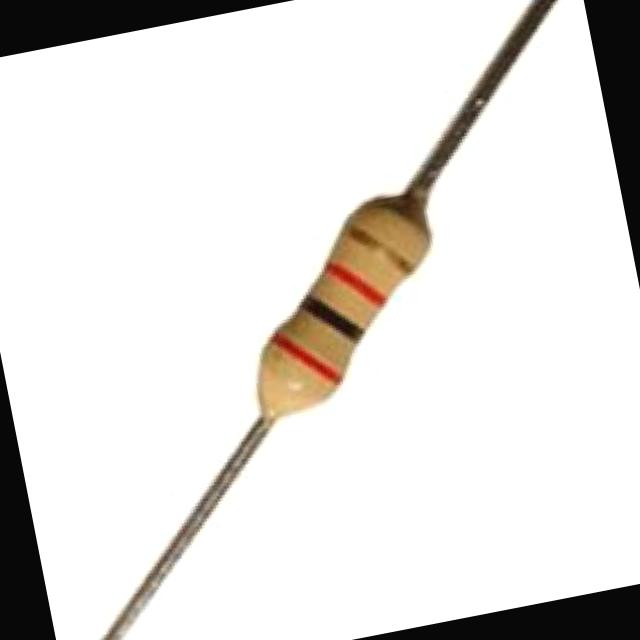Resistor: (247, 157, 440, 440)
black: (297, 295, 365, 343)
gold: (336, 220, 412, 275)
red: (269, 331, 344, 392), (325, 263, 389, 310)
